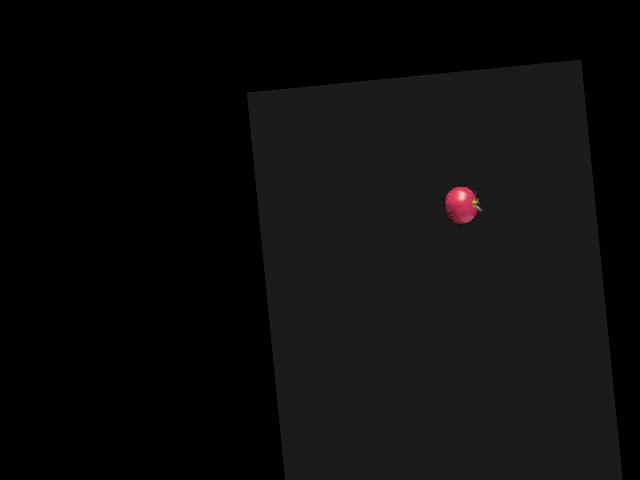tomato: (444, 185, 478, 225)
